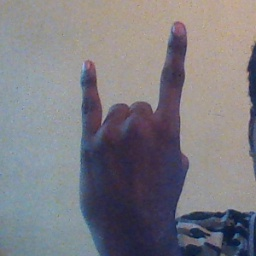V: (65, 16, 202, 225)
